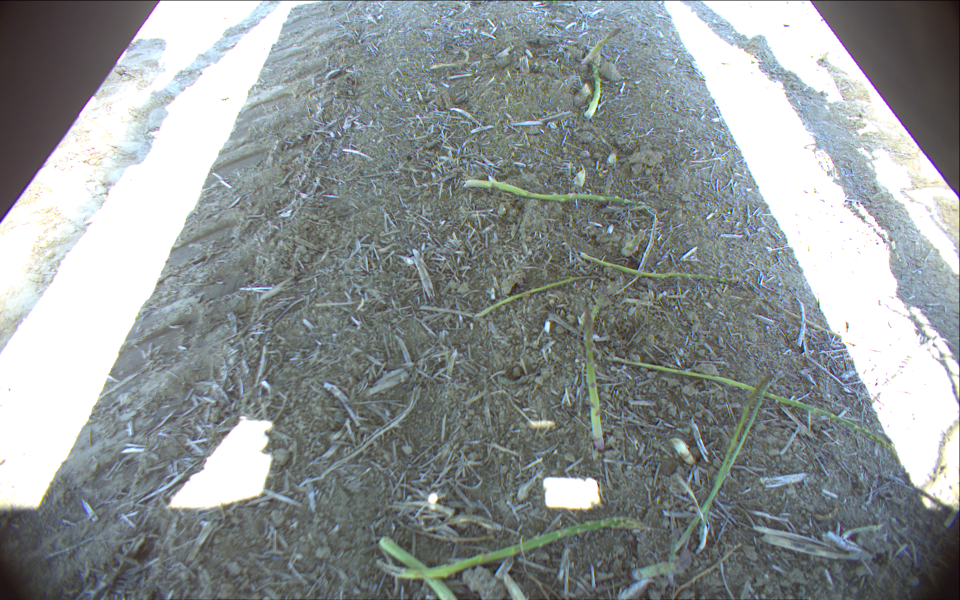aspa: (576, 305, 608, 454), (578, 25, 625, 74)
